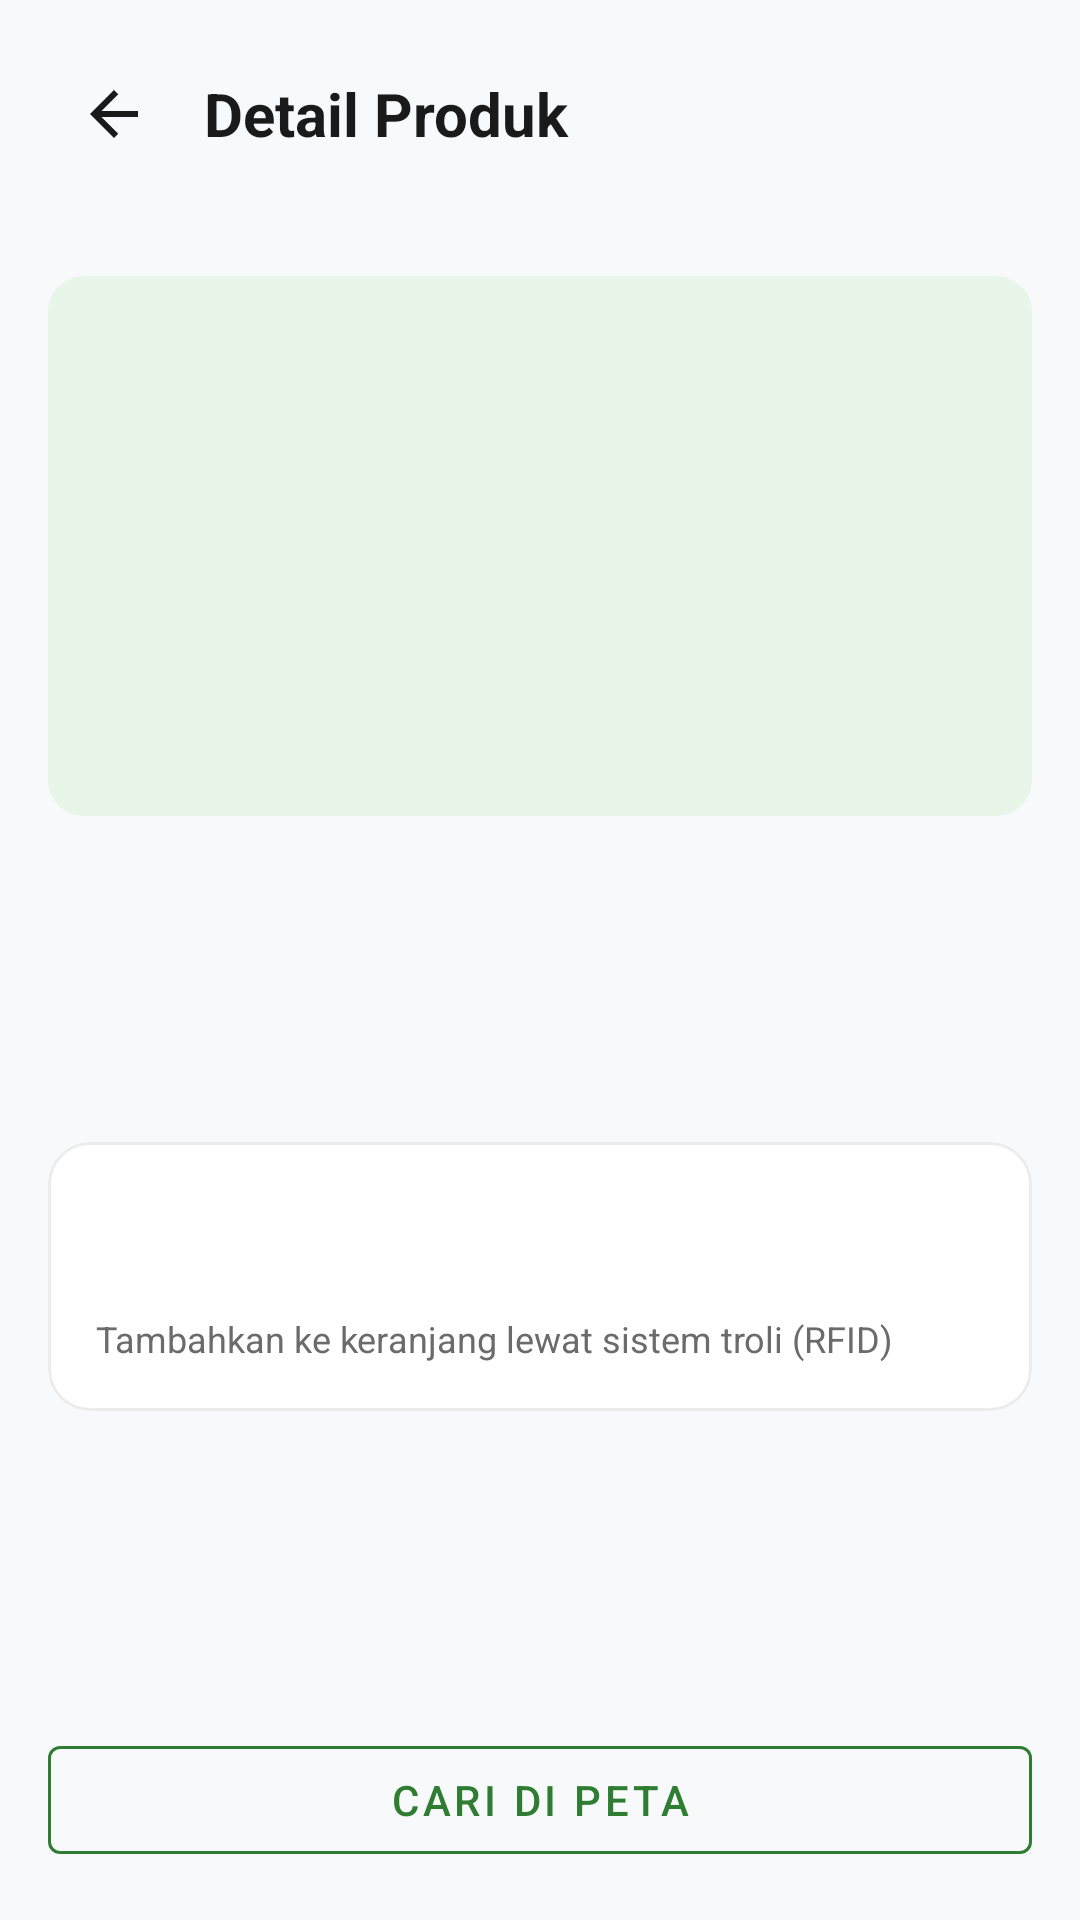

Screen size 1080 × 1920. Icon name, then its center in pixels as point (x, y):
Kembali: point (114, 114)
